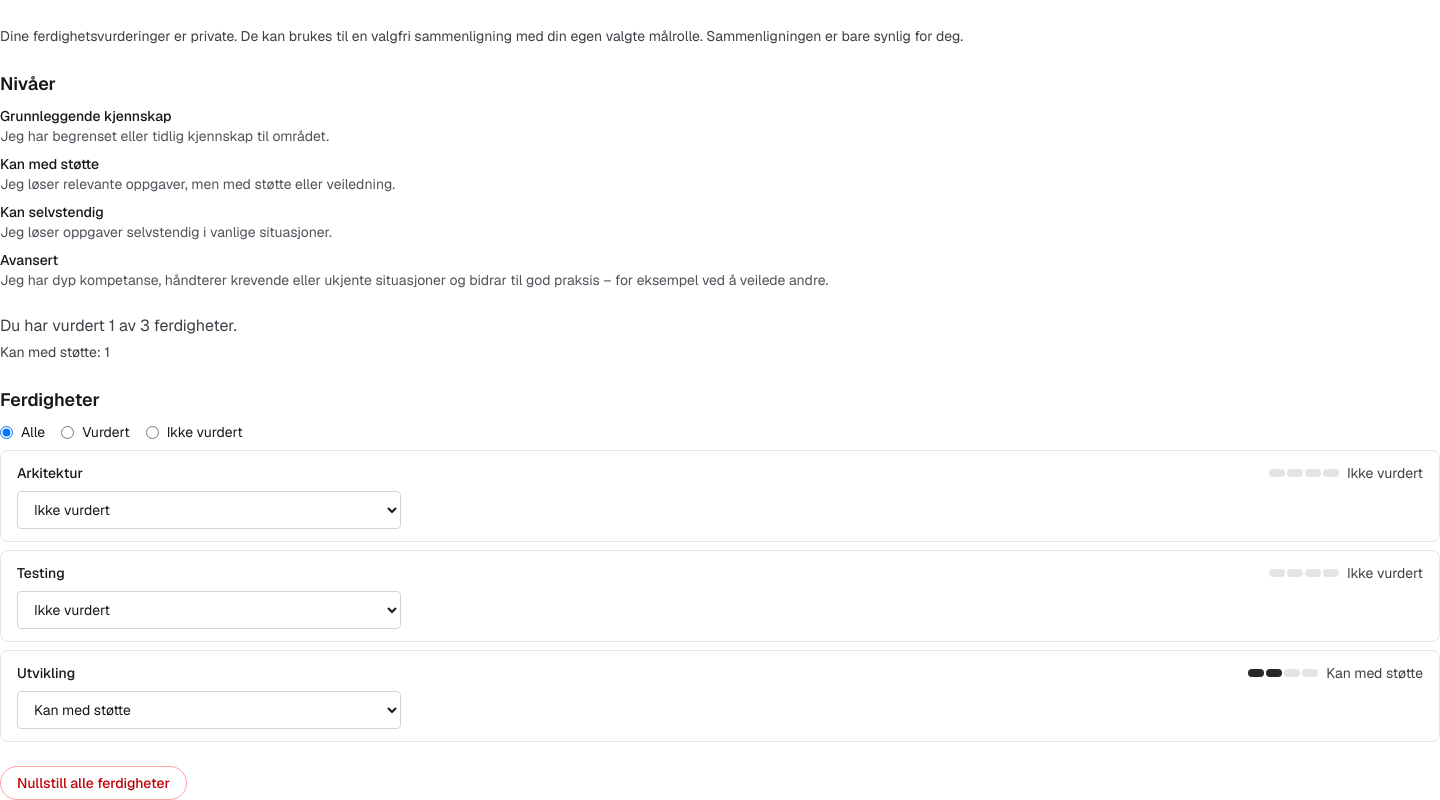
Scenario: SkillProfilePage — reset focus and announcement (TASK-010, S2) › does not announce success when the reset fails
The image size is (1440, 800).
(page scrolled)
Click the button "Nullstill alle ferdigheter" at (94, 783), box [0,766,187,799]
(page scrolled)
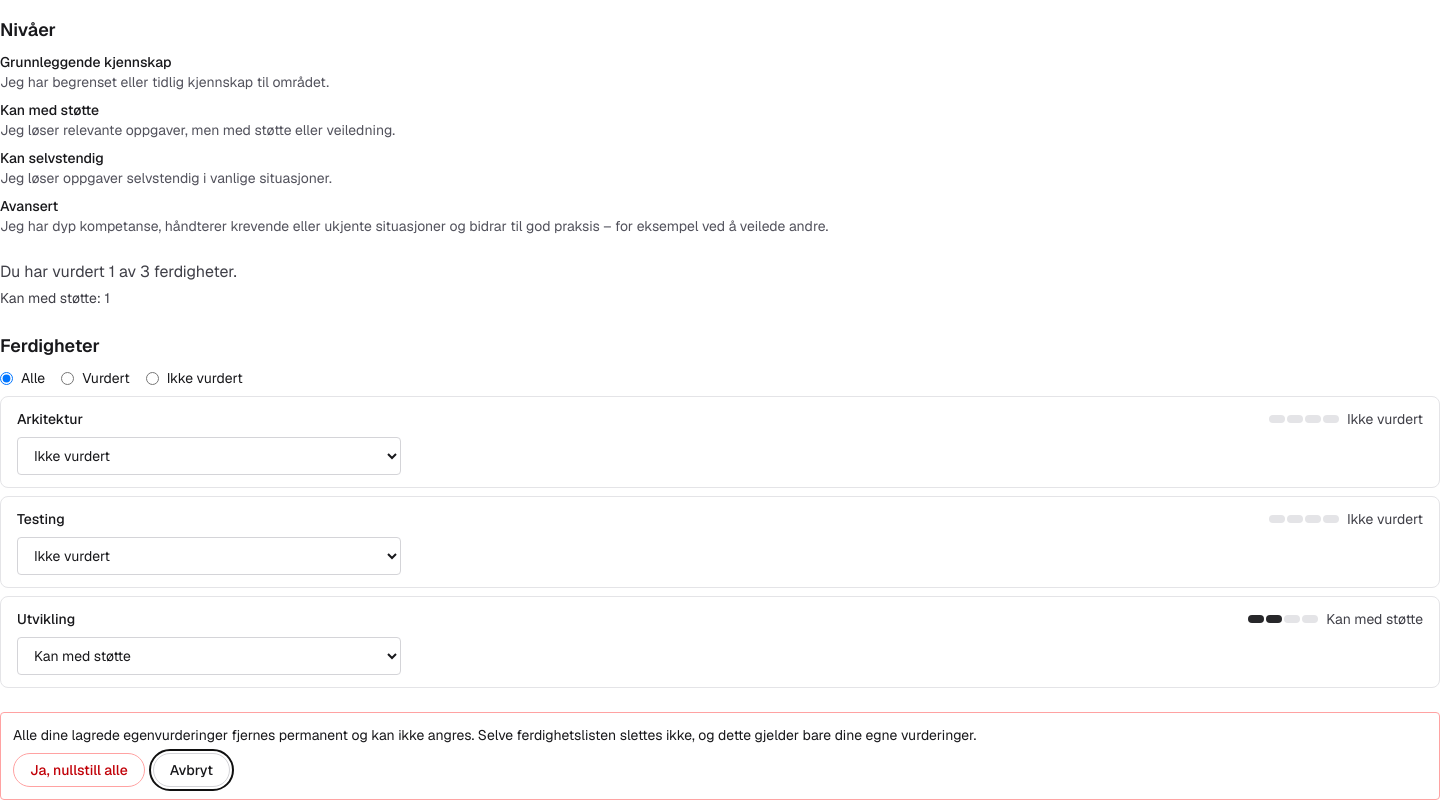
Click the button "Ja, nullstill alle" at (79, 770), box [13,753,145,787]
(page scrolled)
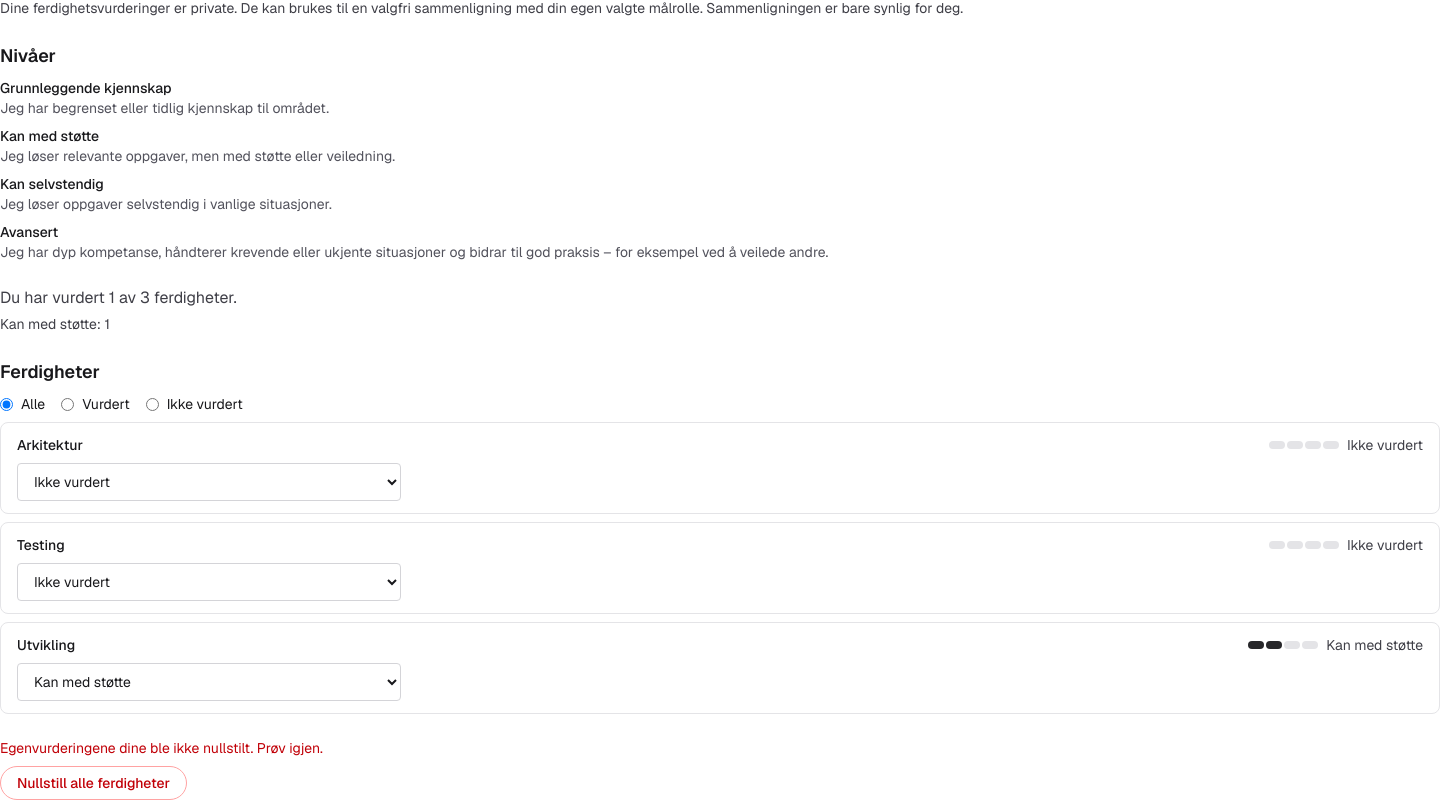
Expected: the message "Egenvurderingene dine ble ikke nullstilt. Prøv igjen." is shown, [0,739,323,757]
